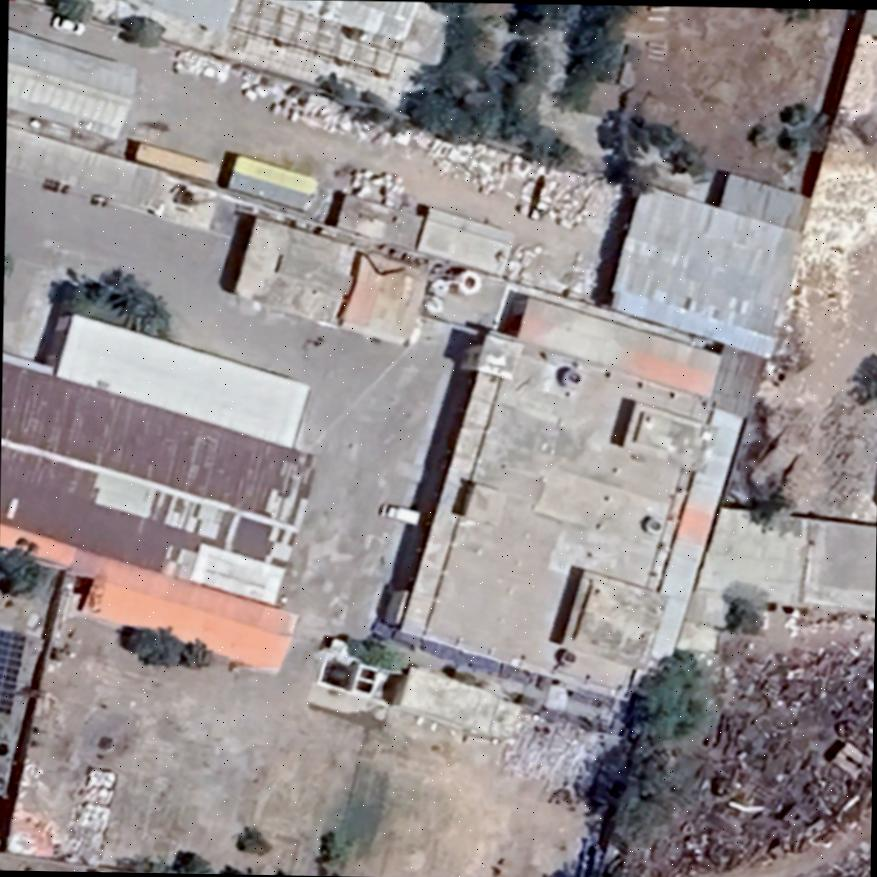Solarpanel: (0, 620, 29, 717)
